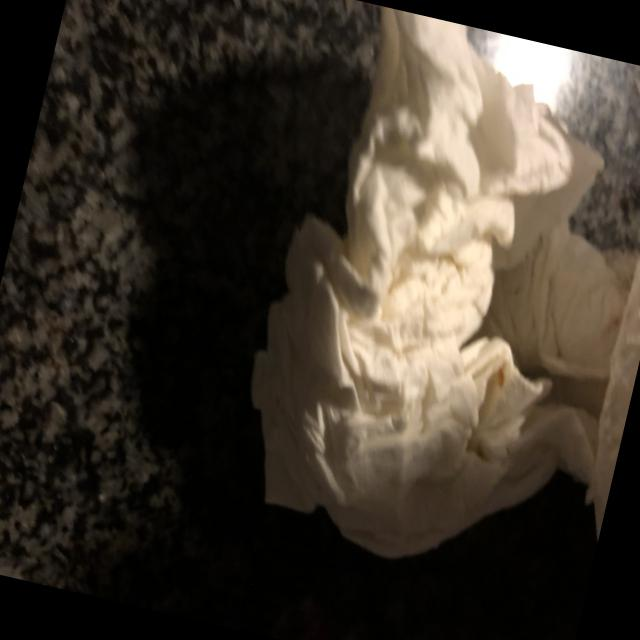organic waste: (212, 0, 640, 614)
